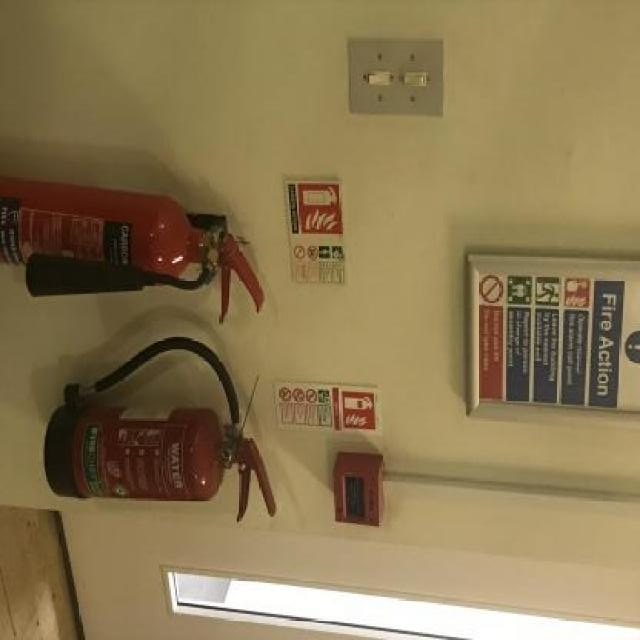fire extinguisher: (44, 335, 276, 523), (0, 174, 265, 323)
